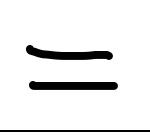eqv: (25, 44, 118, 91)
